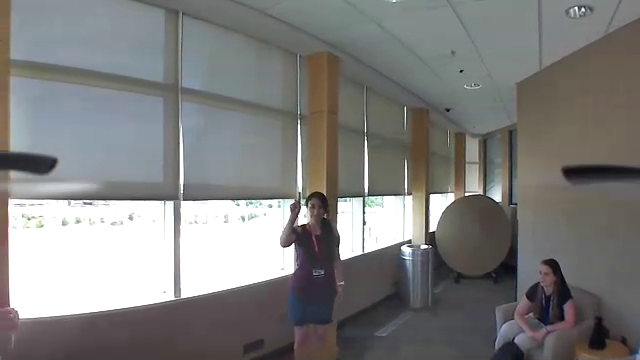up: (284, 191, 303, 223)
